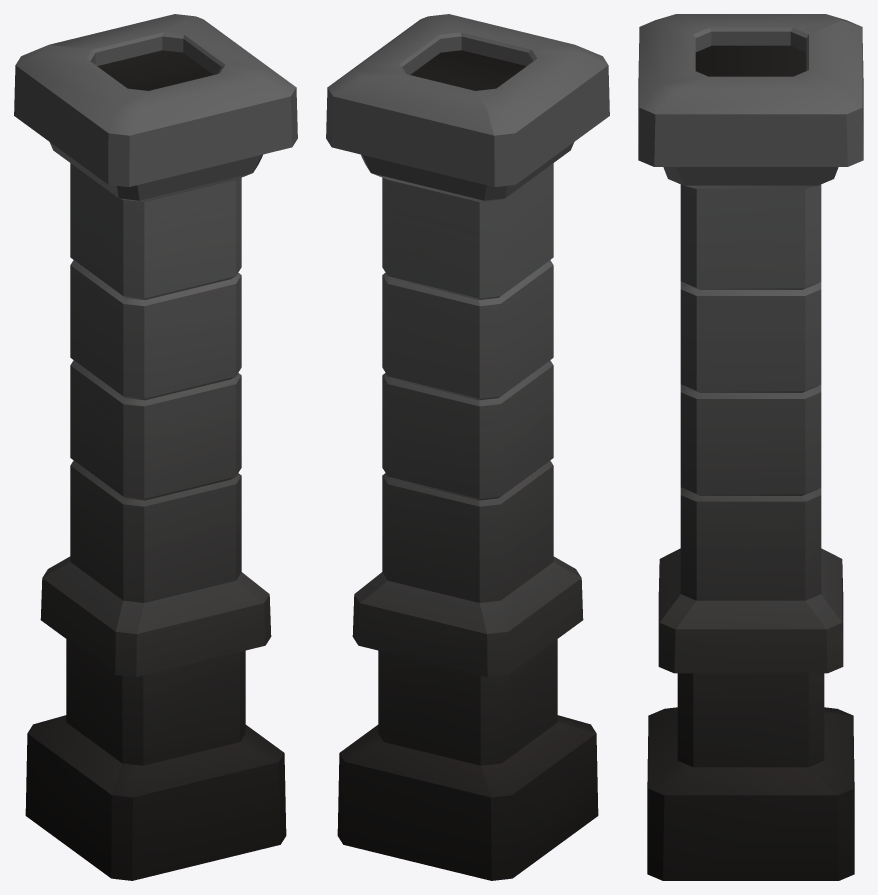
Rendered from Pillar 01.002.fbx.
3 views of the same model, side by side, from view 1: azimuth 30°, elevation 25°; view 2: azimuth 150°, elevation 25°; view 3: azimuth 270°, elevation 25° (orthographic). The views are drawn at different scales.
Visible parts, largest first — view 1: Pillar 01.002; view 2: Pillar 01.002; view 3: Pillar 01.002.
Boxes of the visible parts, <box> form: Pillar 01.002: <box>14,14,297,880</box>; Pillar 01.002: <box>326,14,609,880</box>; Pillar 01.002: <box>638,14,863,880</box>.
Bounding box in the file's own units: 77.93 × 300 × 77.95.
